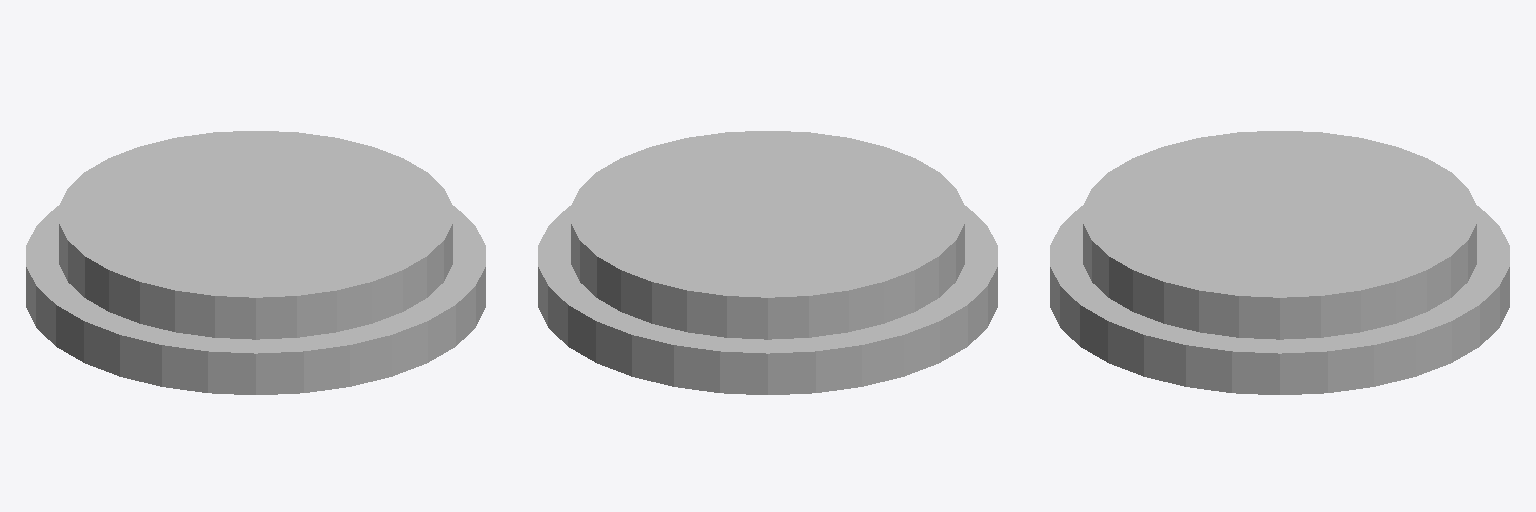
File: selector.obj
3 views of the same model, side by side, from view 1: azimuth 30°, elevation 25°; view 2: azimuth 150°, elevation 25°; view 3: azimuth 270°, elevation 25° (orthographic).
Visible parts, largest first — view 1: selector; view 2: selector; view 3: selector.
Part boxes in pixels (left/top/right/bottom): selector: left=26, top=131, right=485, bottom=394; selector: left=538, top=131, right=997, bottom=394; selector: left=1050, top=131, right=1509, bottom=394.
Bounding box in the file's own units: 1 × 0.2 × 0.9945.